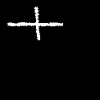single_crochet: (8, 7, 62, 39)
